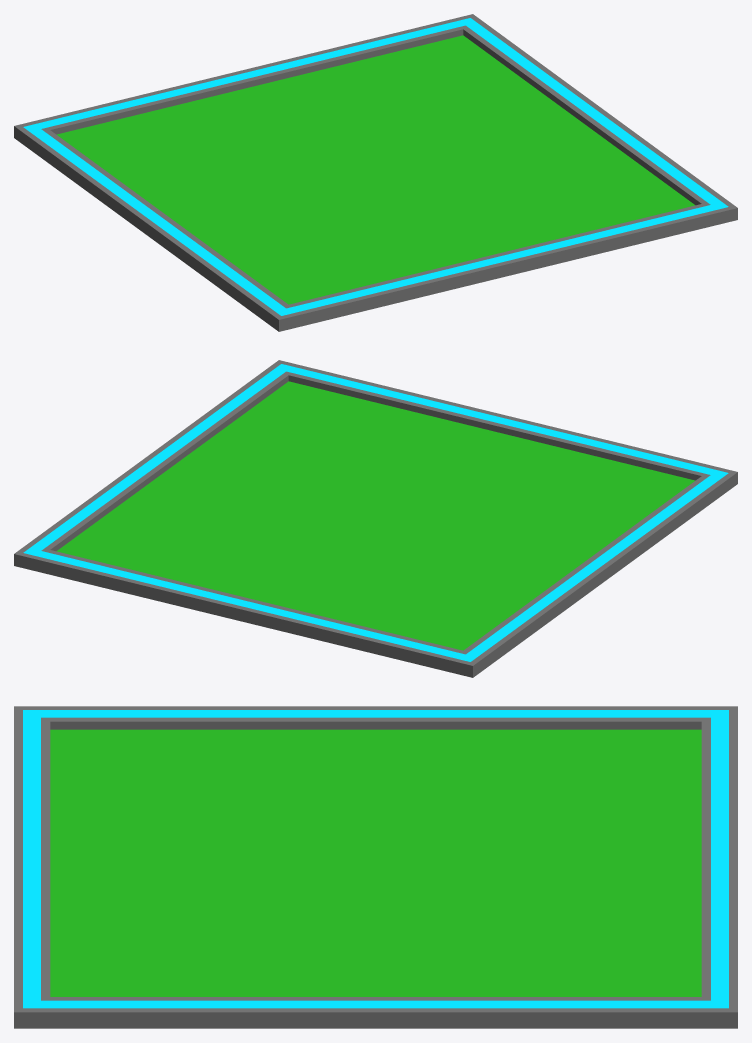
Rendered from GameTable.glb.
3 renders of one model, top to bottom at view 1: azimuth 30°, elevation 25°; view 2: azimuth 150°, elevation 25°; view 3: azimuth 270°, elevation 25°, orthographic. The views are drawn at different scales.
Parts seen in each view (by area): view 1: Table_Turf, Table_Border, Table_BorderNeon; view 2: Table_Turf, Table_Border, Table_BorderNeon; view 3: Table_Turf, Table_Border, Table_BorderNeon.
Boxes of the visible parts, x1,y1,x2,y2 form: Table_Turf: [56, 35, 695, 304]; Table_Border: [14, 14, 737, 331]; Table_BorderNeon: [23, 18, 728, 315]; Table_Turf: [56, 381, 695, 650]; Table_Border: [14, 360, 737, 677]; Table_BorderNeon: [23, 364, 728, 661]; Table_Turf: [50, 729, 701, 996]; Table_Border: [14, 706, 737, 1028]; Table_BorderNeon: [23, 710, 728, 1008].
Size of the model in its own units: 4 by 0.1 by 4.
